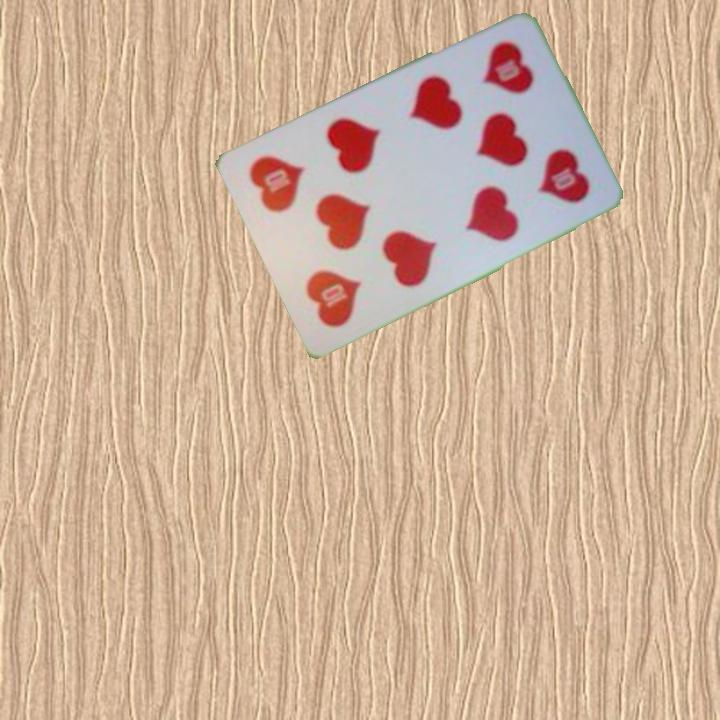h_10.png: (276, 213, 395, 339), (447, 25, 566, 150)
